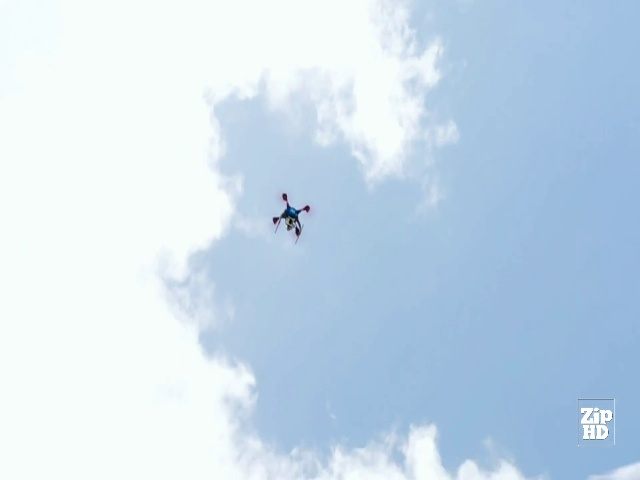drone: (268, 190, 312, 246)
